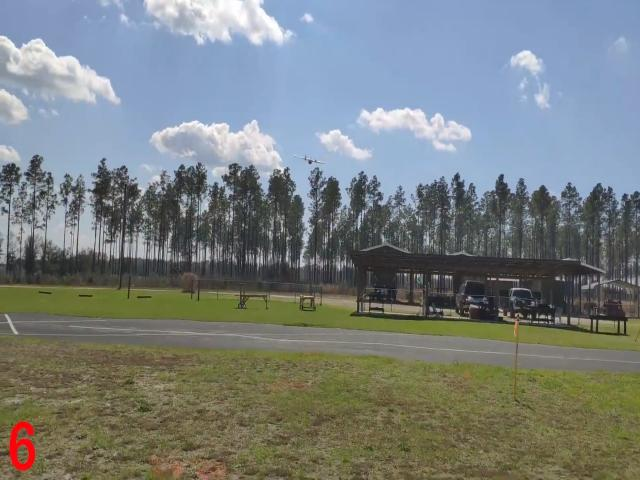plane: (293, 154, 326, 166)
